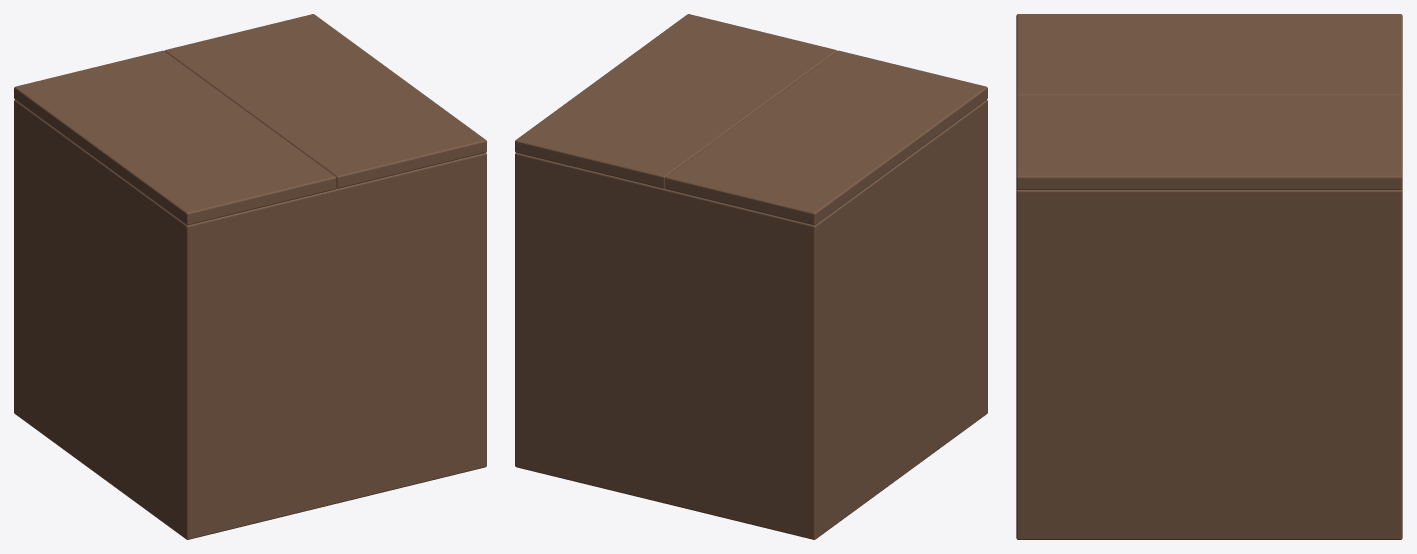
The picture shows the model from 3 angles, left to right: view 1: azimuth 30°, elevation 25°; view 2: azimuth 150°, elevation 25°; view 3: azimuth 270°, elevation 25°; orthographic projection. The views are drawn at different scales.
Parts seen in each view (by area): view 1: Cube, Cube.002, Cube.001; view 2: Cube, Cube.002, Cube.001; view 3: Cube, Cube.001, Cube.002.
Boxes of the visible parts, box(x1,y1,x2,y2) form: Cube: box(14, 100, 486, 539); Cube.002: box(14, 50, 336, 225); Cube.001: box(164, 14, 486, 188); Cube: box(515, 100, 987, 539); Cube.002: box(665, 50, 987, 225); Cube.001: box(515, 14, 837, 188); Cube: box(1016, 188, 1402, 539); Cube.001: box(1016, 95, 1402, 189); Cube.002: box(1016, 14, 1402, 96).
Bounding box in the file's own units: 20 × 20.81 × 20.
